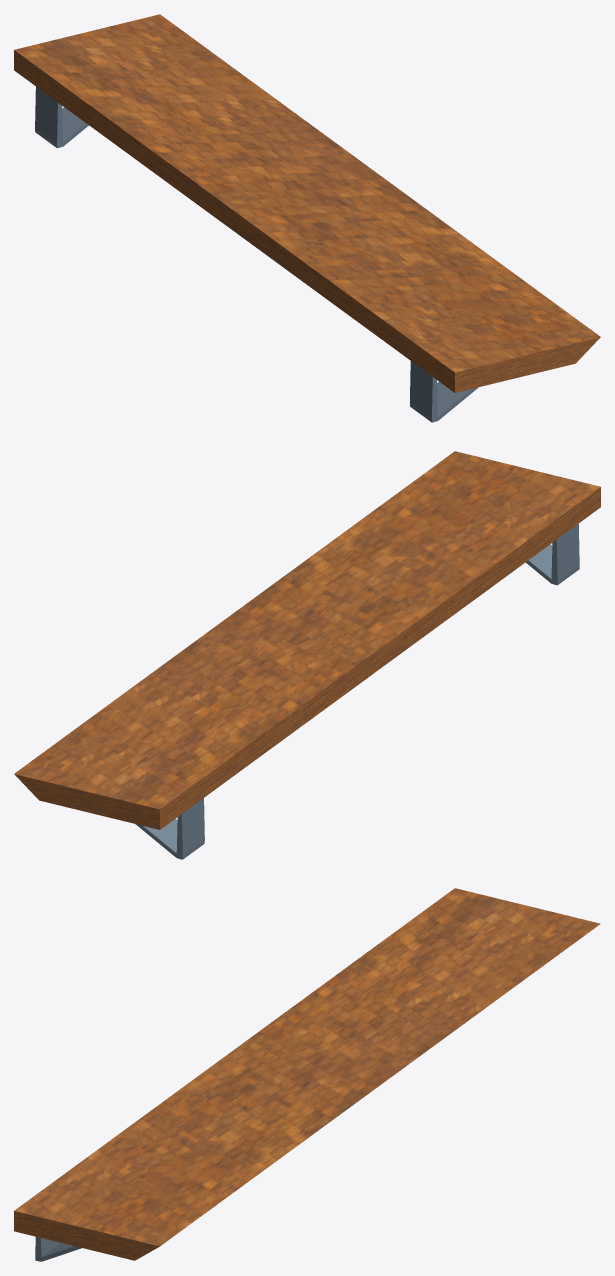
Rendered from Improved evil shelf (fra ikea) 1.fbx.
3 views of the same model, one above another, from view 1: azimuth 30°, elevation 25°; view 2: azimuth 150°, elevation 25°; view 3: azimuth 330°, elevation 25° (orthographic).
Visible parts, largest first — view 1: Cube; view 2: Cube; view 3: Cube.
Boxes of the visible parts, x1=… form: Cube: x1=14, y1=14, x2=600, y2=422; Cube: x1=14, y1=451, x2=600, y2=859; Cube: x1=14, y1=888, x2=600, y2=1261.
Size of the model in its own units: 154 by 66.34 by 801.
